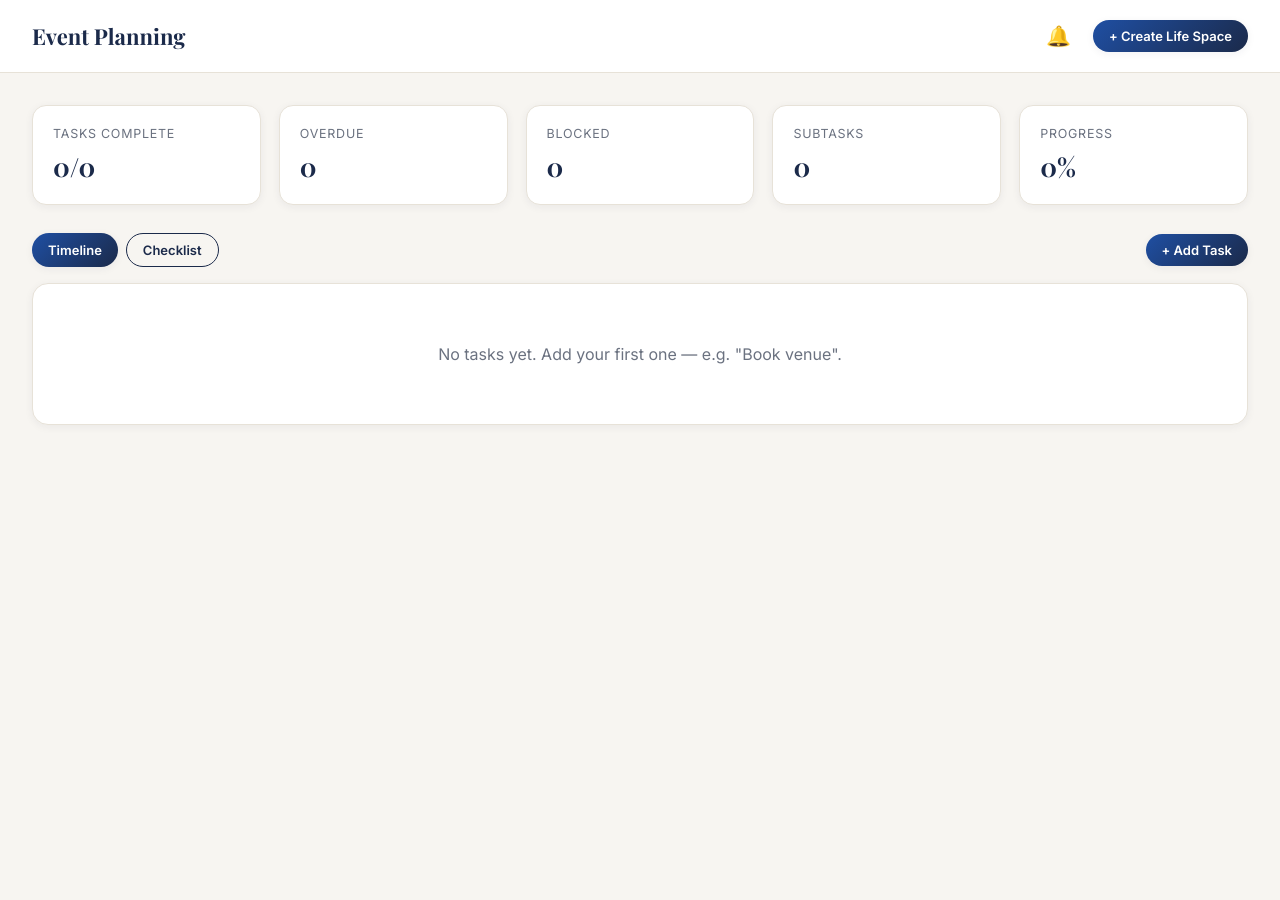
Test: Planning — create modal priority › includes a priority select in the Add Task modal defaulting to Medium
Check: the text "No tasks yet. Add your first one — e.g. \"Book venue\"." is shown, box [32, 283, 1248, 425]
Click the button "+ Add Task": (1197, 250) [1146, 234, 1248, 266]
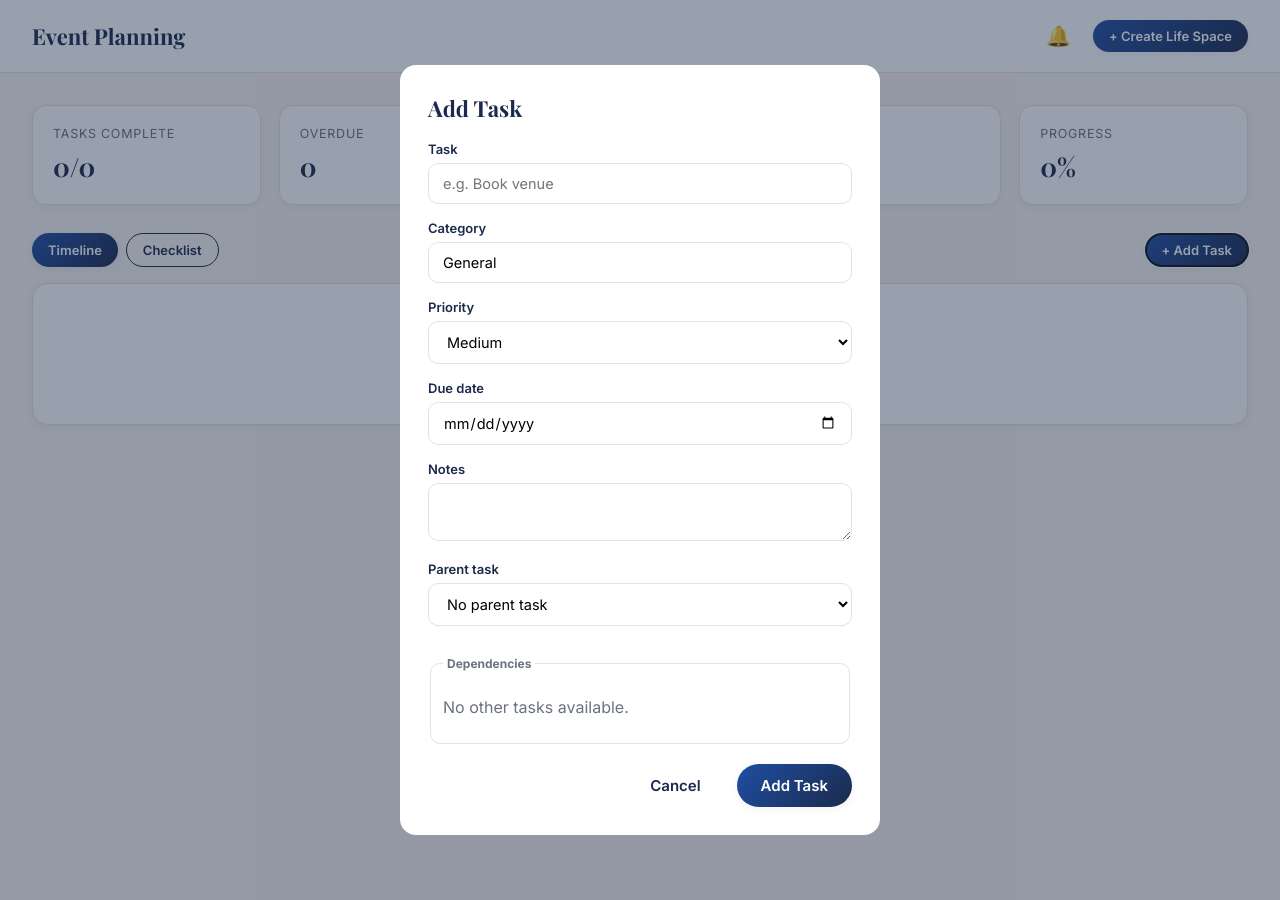
Check: the dropdown showing "Medium" is shown, box [428, 321, 852, 364]
